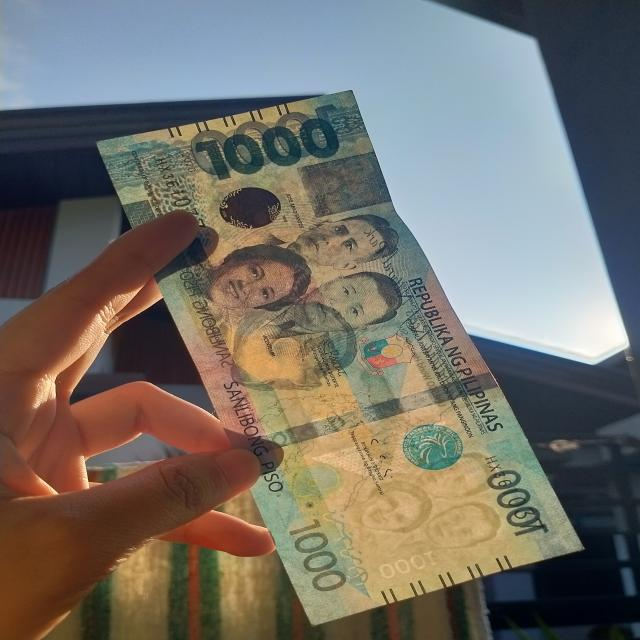concealed_value: (295, 151, 393, 220)
optically_variable_device: (201, 174, 298, 242)
security_thread: (240, 372, 500, 455)
see_through_mark: (317, 501, 381, 593)
value_watermark: (376, 550, 436, 577)
watermark: (354, 451, 508, 553)
